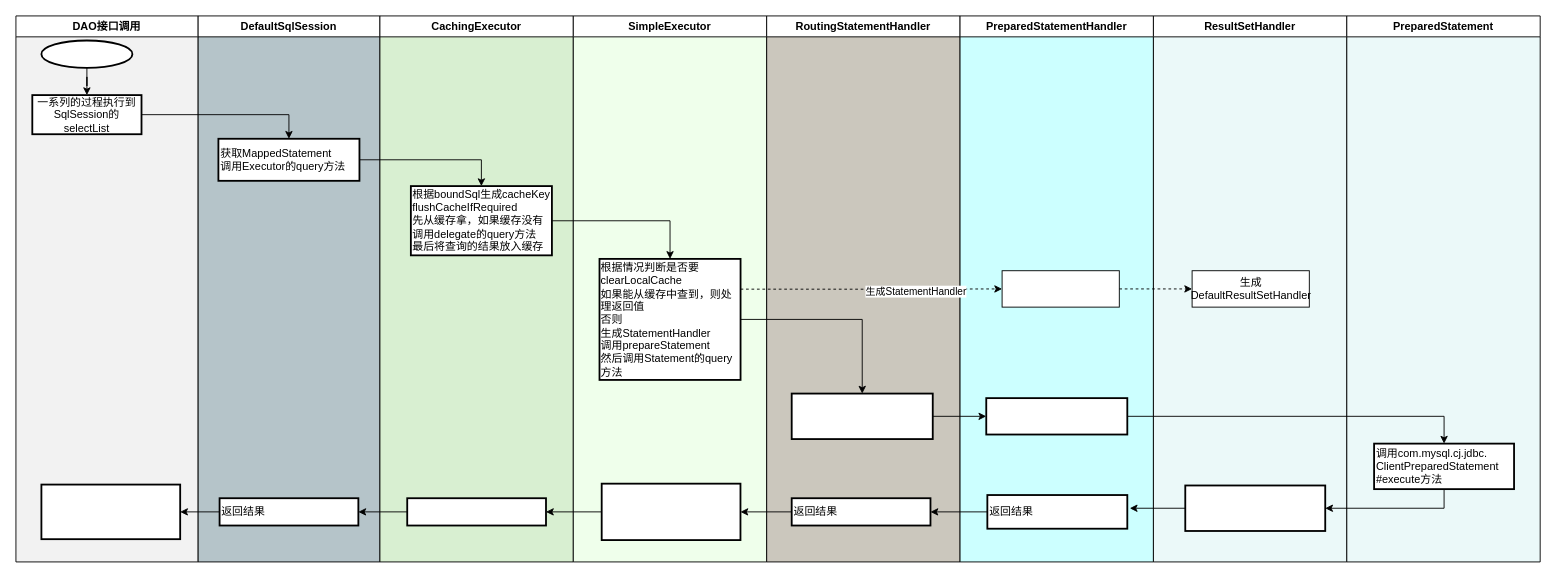
This 1556x578 diagram has some shape labels left out. The centre of each missing label's shape, as x and y in pixels:
handleResultSets解析 PreparedStatement里面查询出来的结果集: the point at 1255,507
MapperMethod调用executeForMap/List/Cursor等方法处理，返回结果: the point at 110,511
开始: the point at 86,53
放入缓存 返回结果: the point at 476,511
调用delegate (PreparedStatementHandler) 的query方法: the point at 861,416
调用PreparedStatement的execute方法: the point at 1056,416
调用构造方法: the point at 1060,288
返回结果 如果是statement级别的缓存要清理localCache 在finally中关闭statement: the point at 670,511
